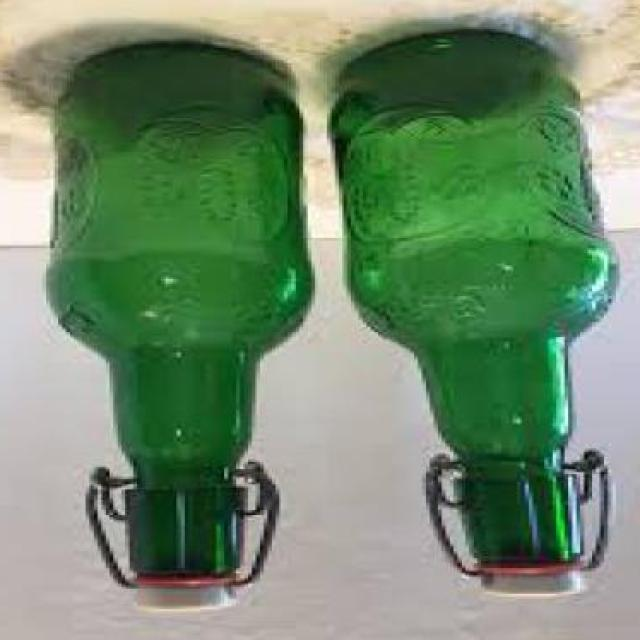kaca: (336, 33, 620, 573), (53, 44, 318, 578)
